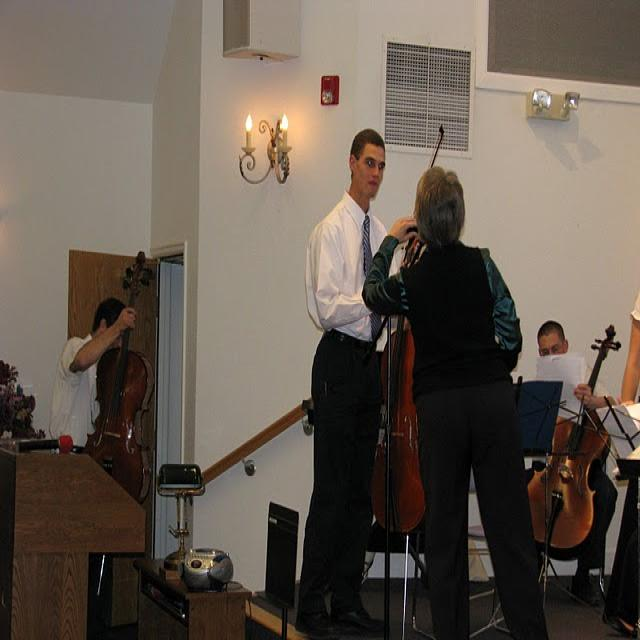cello: (524, 316, 621, 555), (371, 211, 436, 531), (86, 255, 166, 501)
